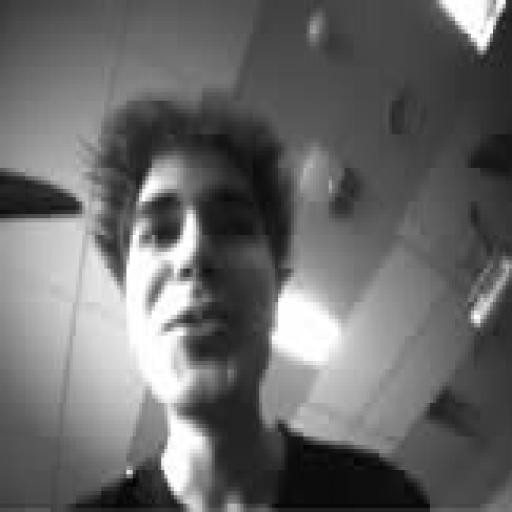human: (73, 97, 429, 511)
